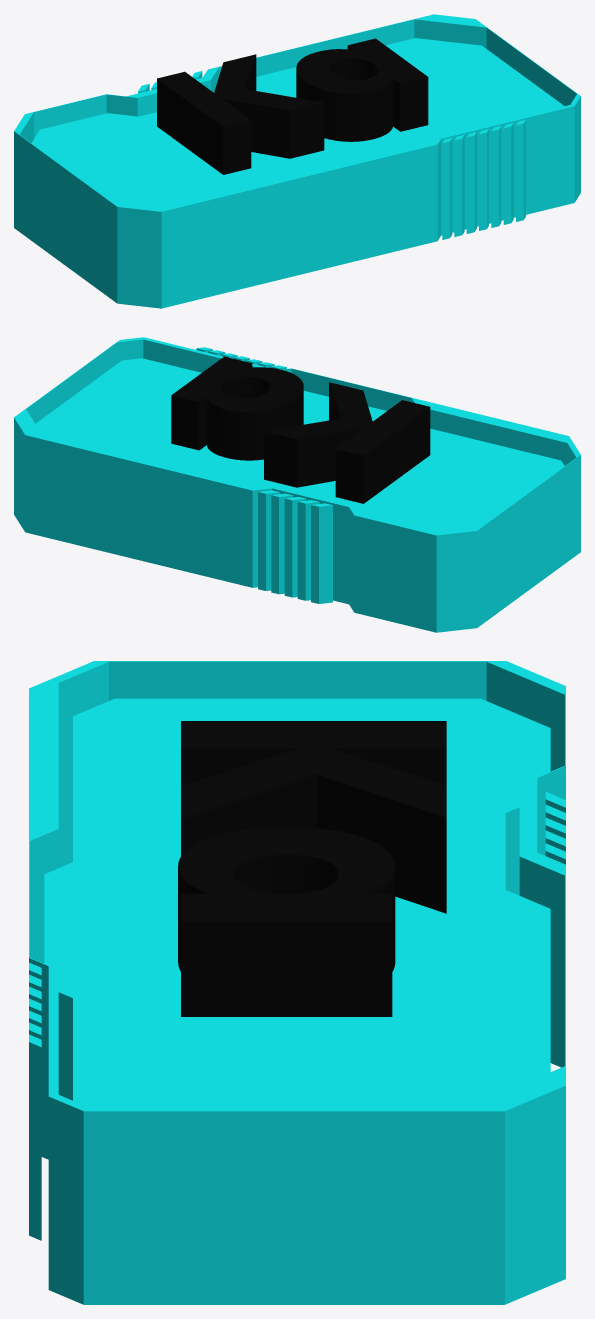
The model's file is 5.HurufKa.glb.
The picture shows the model from 3 angles, top to bottom: view 1: azimuth 30°, elevation 25°; view 2: azimuth 150°, elevation 25°; view 3: azimuth 270°, elevation 25°; orthographic projection. The views are drawn at different scales.
Visible parts, largest first — view 1: Curve.088, Curve.082, Curve.096, Curve.097, Curve.089, Curve.091, Curve.090, Curve.093, Curve.094, Curve.095, Curve.092; view 2: Curve.088, Curve.082, Curve.096, Curve.097, Curve.087, Curve.086, Curve.085, Curve.083, Curve.084; view 3: Curve.088, Curve.082, Curve.097, Curve.096, Curve.095.
Boxes of the visible parts, x1,y1,x2,y2 form: Curve.088: [14, 14, 580, 308]; Curve.082: [31, 38, 564, 207]; Curve.096: [157, 54, 324, 174]; Curve.097: [296, 38, 428, 141]; Curve.089: [442, 138, 452, 239]; Curve.091: [466, 132, 476, 233]; Curve.090: [454, 135, 464, 236]; Curve.093: [491, 126, 501, 227]; Curve.094: [503, 123, 513, 224]; Curve.095: [516, 120, 525, 221]; Curve.092: [479, 129, 488, 230]; Curve.088: [14, 337, 580, 632]; Curve.082: [35, 358, 564, 532]; Curve.096: [264, 382, 430, 503]; Curve.097: [171, 356, 303, 460]; Curve.087: [311, 503, 332, 603]; Curve.086: [297, 500, 319, 600]; Curve.085: [284, 497, 306, 597]; Curve.083: [258, 490, 279, 590]; Curve.084: [271, 493, 292, 594]; Curve.088: [29, 661, 565, 1304]; Curve.082: [44, 698, 550, 1110]; Curve.097: [178, 827, 395, 1016]; Curve.096: [181, 721, 446, 913]; Curve.095: [29, 1034, 41, 1240].
Size of the model in its own units: 0.2966 by 0.0795 by 0.1496.
